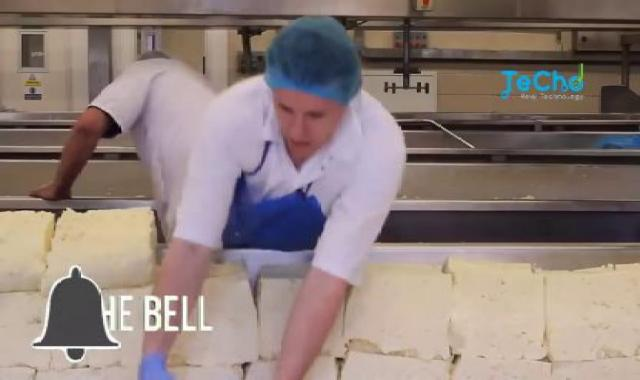hairnet: (264, 18, 372, 110)
